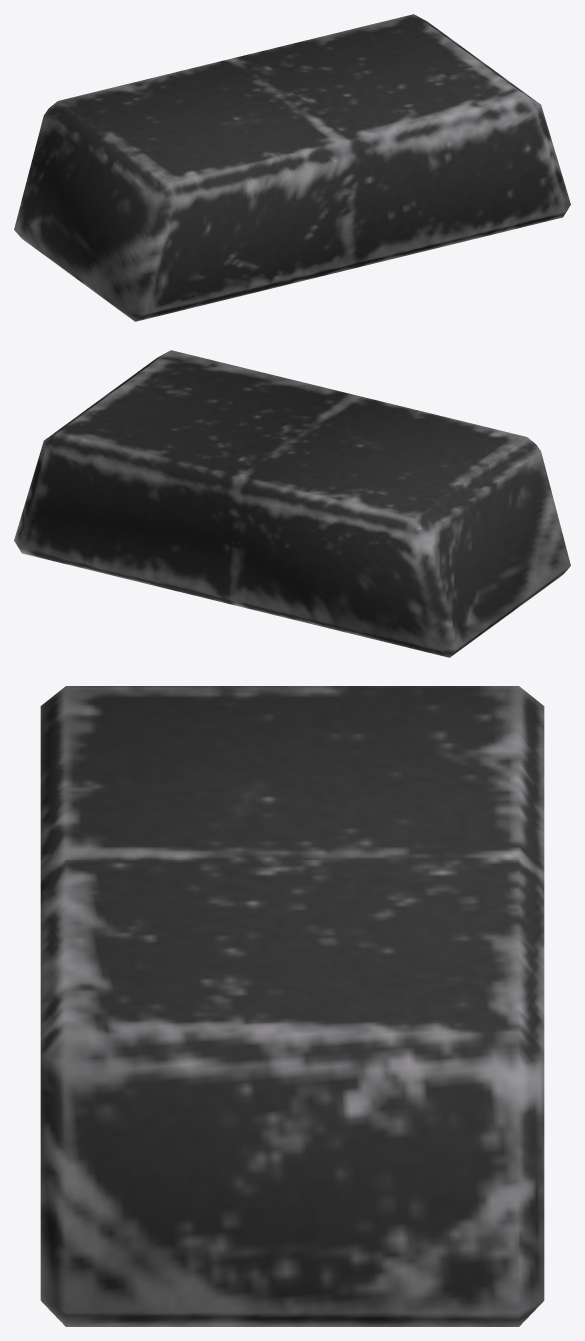
File: MetalIngotLP.fbx
The picture shows the model from 3 angles, top to bottom: view 1: azimuth 30°, elevation 25°; view 2: azimuth 150°, elevation 25°; view 3: azimuth 270°, elevation 25°; orthographic projection. The views are drawn at different scales.
Visible parts, largest first — view 1: ConjuredmetalIngot.001; view 2: ConjuredmetalIngot.001; view 3: ConjuredmetalIngot.001.
Boxes of the visible parts, box(x1,y1,x2,y2) form: ConjuredmetalIngot.001: box(14, 14, 570, 321); ConjuredmetalIngot.001: box(14, 350, 570, 657); ConjuredmetalIngot.001: box(40, 686, 544, 1326).
Size of the model in its own units: 190 by 52.86 by 93.51.
